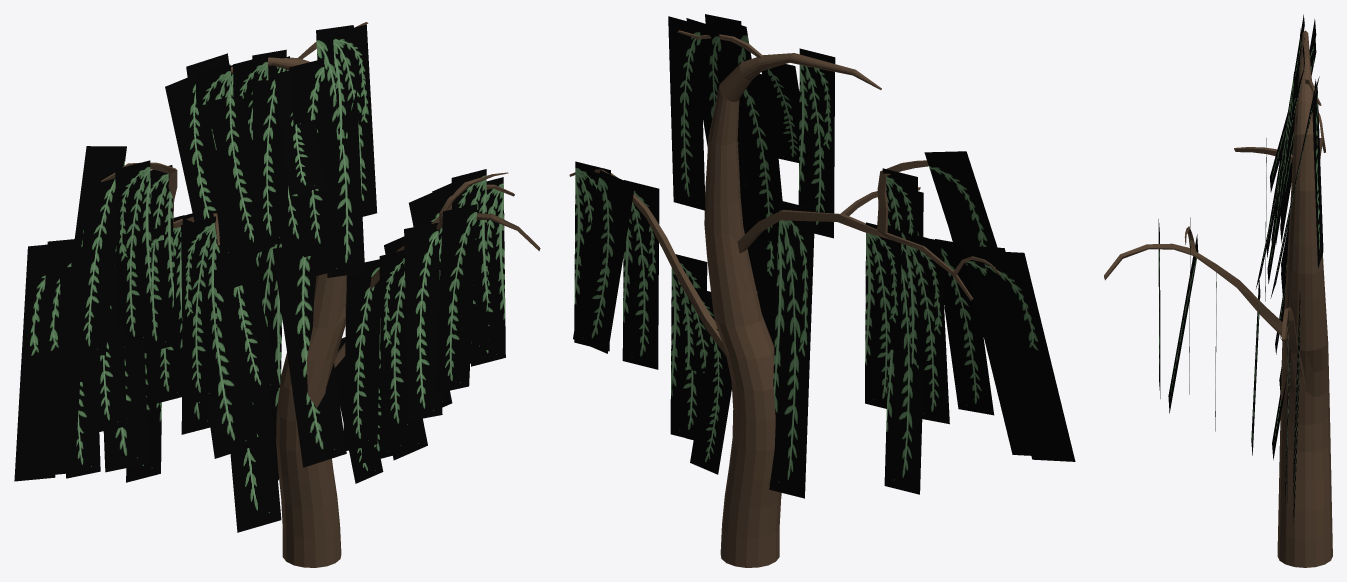
The model's file is willow.obj.
The picture shows the model from 3 angles, left to right: view 1: azimuth 30°, elevation 25°; view 2: azimuth 150°, elevation 25°; view 3: azimuth 270°, elevation 25°; orthographic projection. The views are drawn at different scales.
Parts seen in each view (by area): view 1: 平面.034; view 2: 平面.034; view 3: 平面.034.
Part boxes in pixels (<box>): 平面.034: <box>14,22,540,567</box>; 平面.034: <box>569,14,1075,567</box>; 平面.034: <box>1104,14,1332,567</box>.
Size of the model in its own units: 23.71 by 23.71 by 9.99.
Materials: 48 (48 with a texture image).
